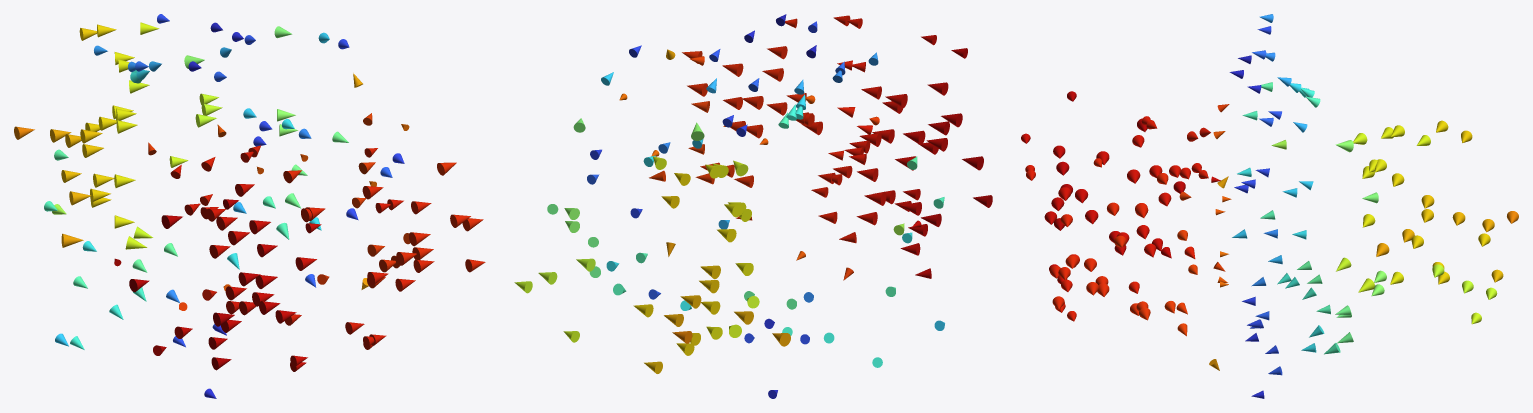
The model's file is LineasCorrienteH2-O2_mh2-1.38_V-0.7.glb.
The picture shows the model from 3 angles, left to right: view 1: azimuth 30°, elevation 25°; view 2: azimuth 150°, elevation 25°; view 3: azimuth 270°, elevation 25°; orthographic projection. The views are drawn at different scales.
Size of the model in its own units: 0.000924 by 0.000967 by 0.00124.
Materials: 2 (2 with a texture image).
